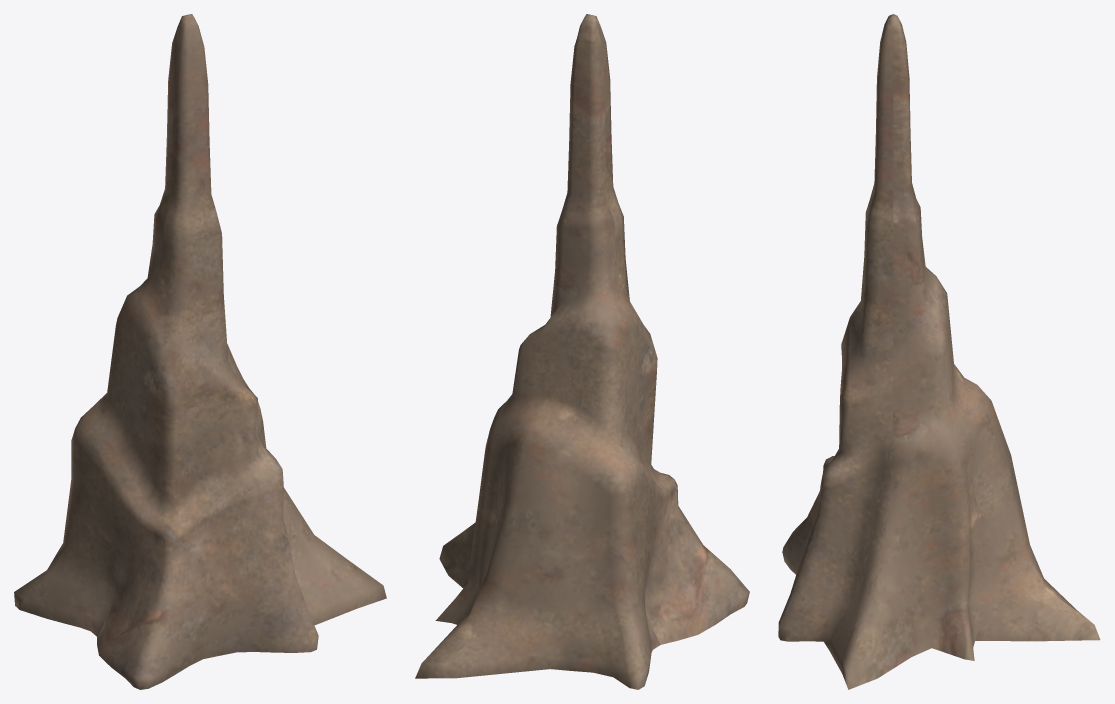
Rendered from stallattite1 1.fbx.
3 renders of one model, left to right at view 1: azimuth 30°, elevation 25°; view 2: azimuth 150°, elevation 25°; view 3: azimuth 270°, elevation 25°, orthographic. The views are drawn at different scales.
Parts seen in each view (by area): view 1: stallattite1; view 2: stallattite1; view 3: stallattite1.
Boxes of the visible parts, x1=… form: stallattite1: x1=14, y1=14, x2=386, y2=689; stallattite1: x1=415, y1=14, x2=749, y2=689; stallattite1: x1=778, y1=14, x2=1100, y2=689.
Bounding box in the file's own units: 18.56 × 37.6 × 18.57.
